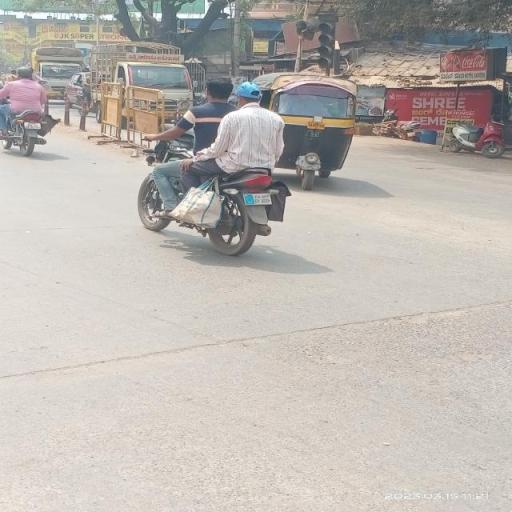bike: (134, 74, 296, 264)
numberplate: (244, 191, 275, 206)
withouthelmet: (207, 78, 232, 100), (238, 82, 260, 104)
